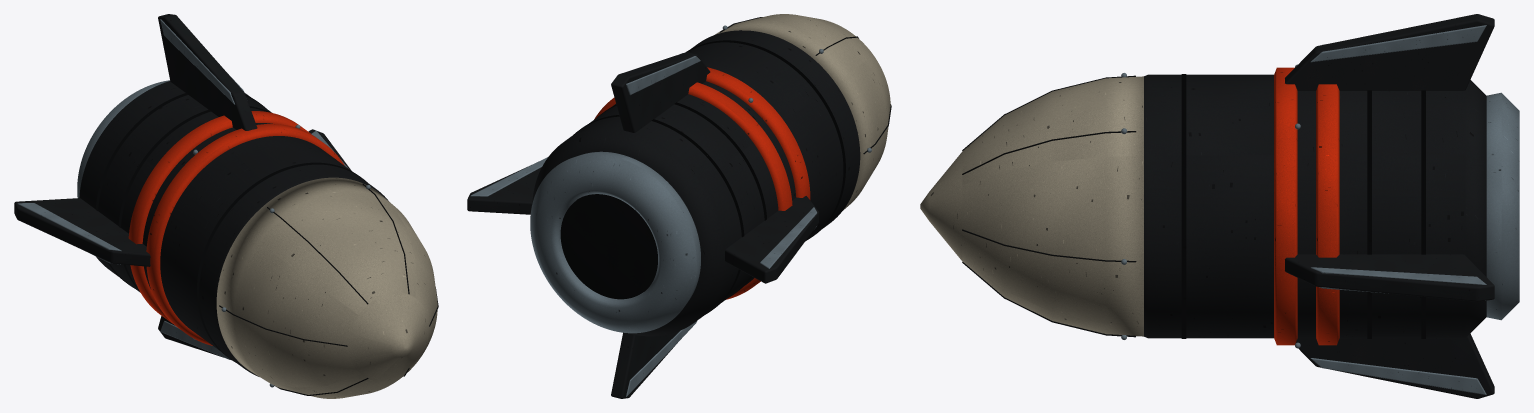
File: pulse-projectile.glb
3 renders of one model, left to right at view 1: azimuth 30°, elevation 25°; view 2: azimuth 150°, elevation 25°; view 3: azimuth 270°, elevation 25°, orthographic. The views are drawn at different scales.
Visible parts, largest first — view 1: pulse white ceramic geometry, pulse graphite geometry, pulse orange rings geometry, pulse bolts geometry, pulse recessed black geometry; view 2: pulse graphite geometry, pulse bolts geometry, pulse recessed black geometry, pulse white ceramic geometry, pulse orange rings geometry; view 3: pulse graphite geometry, pulse white ceramic geometry, pulse bolts geometry, pulse orange rings geometry, pulse recessed black geometry.
Boxes of the visible parts, x1=… form: pulse white ceramic geometry: x1=216, y1=177, x2=437, y2=398; pulse graphite geometry: x1=14, y1=14, x2=388, y2=376; pulse orange rings geometry: x1=128, y1=111, x2=344, y2=345; pulse bolts geometry: x1=17, y1=19, x2=370, y2=387; pulse recessed black geometry: x1=95, y1=93, x2=438, y2=395; pulse graphite geometry: x1=467, y1=30, x2=860, y2=398; pulse bolts geometry: x1=470, y1=25, x2=871, y2=396; pulse recessed black geometry: x1=560, y1=17, x2=891, y2=313; pulse white ceramic geometry: x1=715, y1=14, x2=890, y2=210; pulse orange rings geometry: x1=594, y1=67, x2=810, y2=299; pulse graphite geometry: x1=1144, y1=14, x2=1494, y2=398; pulse white ceramic geometry: x1=920, y1=76, x2=1143, y2=336; pulse bolts geometry: x1=1121, y1=25, x2=1519, y2=394; pulse orange rings geometry: x1=1274, y1=67, x2=1339, y2=345; pulse recessed black geometry: x1=962, y1=74, x2=1425, y2=338.
Bounding box in the file's own units: 0.6987 × 0.6987 × 1.
Materials: 5 (5 with a texture image).
